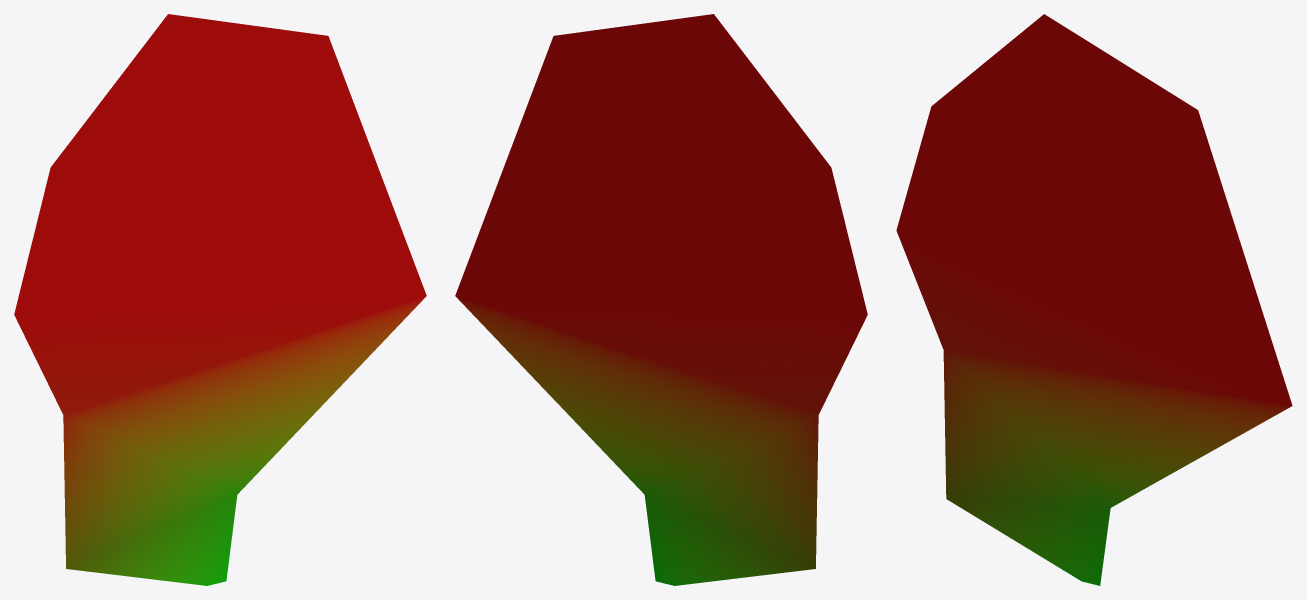
Rendered from Great Brome_LOD5_Var5_tjugaikia.fbx.
3 renders of one model, left to right at view 1: azimuth 30°, elevation 25°; view 2: azimuth 150°, elevation 25°; view 3: azimuth 330°, elevation 25°, orthographic. The views are drawn at different scales.
Parts seen in each view (by area): view 1: _6de8_Var5_LOD5; view 2: _6de8_Var5_LOD5; view 3: _6de8_Var5_LOD5.
Part boxes in pixels (left/top/right/bottom): _6de8_Var5_LOD5: left=14, top=14, right=426, bottom=585; _6de8_Var5_LOD5: left=455, top=14, right=867, bottom=585; _6de8_Var5_LOD5: left=896, top=14, right=1292, bottom=585.
Size of the model in its own units: 60.25 by 81.13 by 0.000372.
